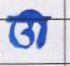i_matra: (31, 9, 45, 47)
